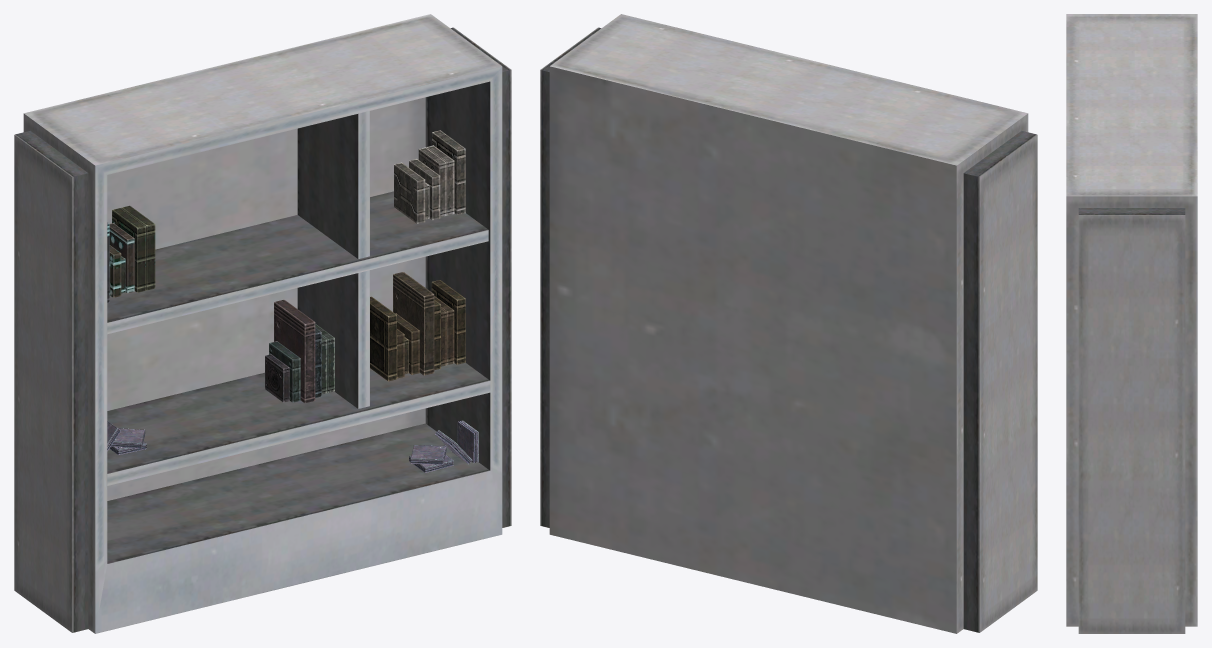
File: frn_all_plan_bookcase_s01_l0.fbx
3 renders of one model, left to right at view 1: azimuth 30°, elevation 25°; view 2: azimuth 150°, elevation 25°; view 3: azimuth 270°, elevation 25°, orthographic. The views are drawn at different scales.
Visible parts, largest first — view 1: mesh_node; view 2: mesh_node; view 3: mesh_node.
Boxes of the visible parts, x1=… form: mesh_node: x1=14, y1=14, x2=511, y2=633; mesh_node: x1=540, y1=14, x2=1037, y2=633; mesh_node: x1=1066, y1=14, x2=1197, y2=633.
Size of the model in its own units: 1.77 by 1.8 by 0.4979.
